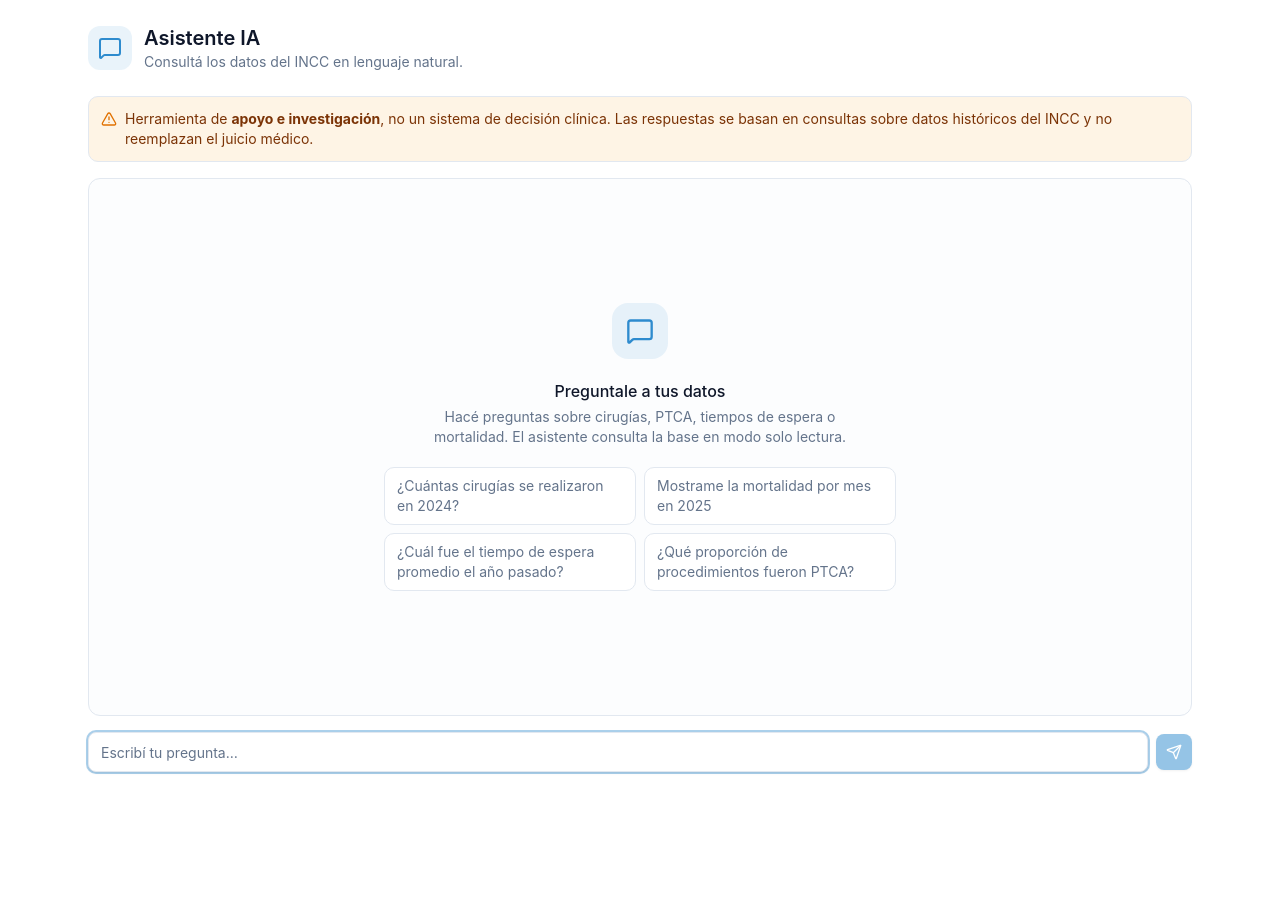
Test: AgentePage › envia pregunta y muestra tabla
Expected: the text "Preguntale a tus datos" is shown, [555,381,726,401]
Expected: the text "no un sistema de decisión clínica" is shown, [125,110,1112,147]
Type "cuantas?" into the field with placeholder "Escribí tu pregunta…" at (618, 752), box [88,732,1148,772]
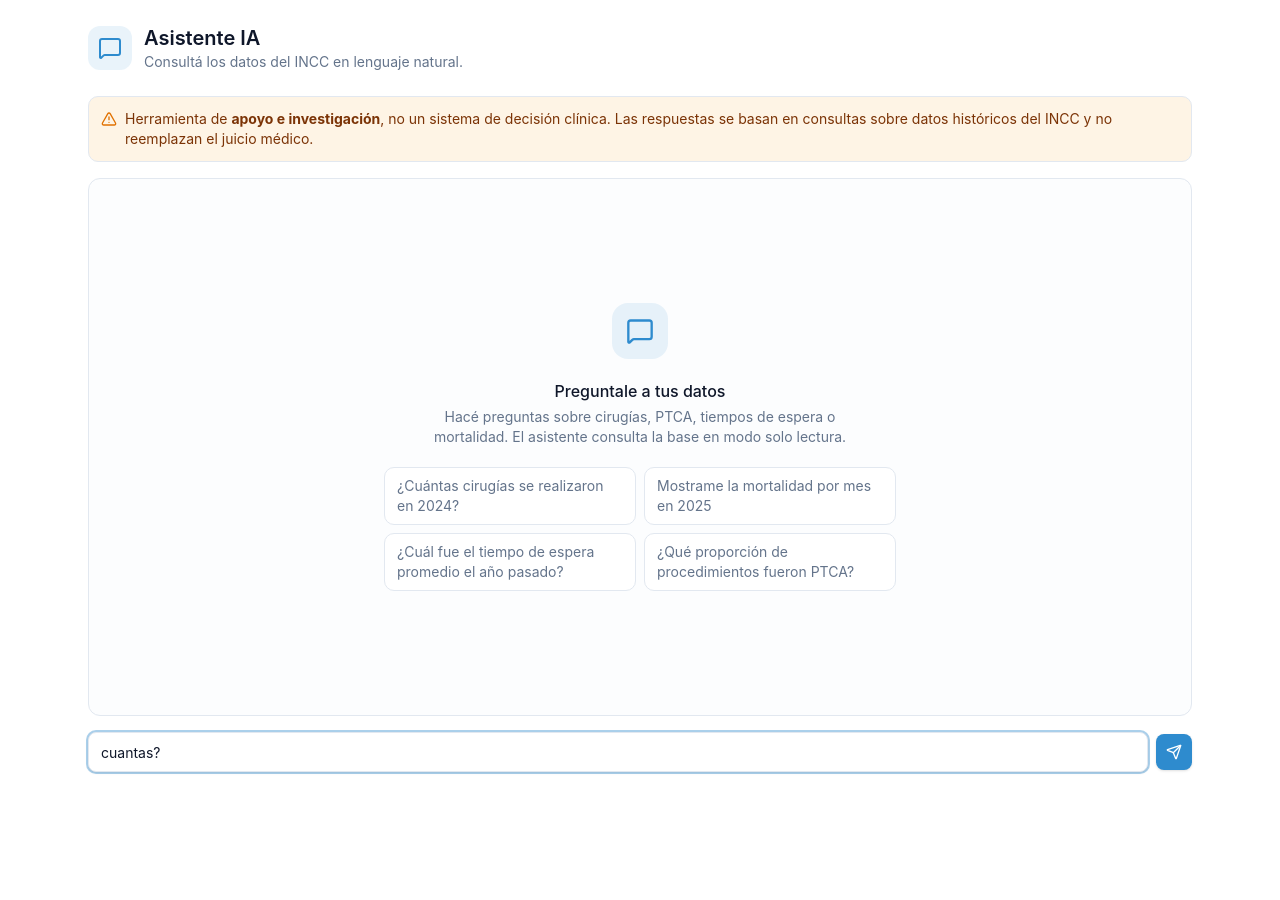
Click the button named "Enviar" at (1174, 752), box [1156,734,1192,770]
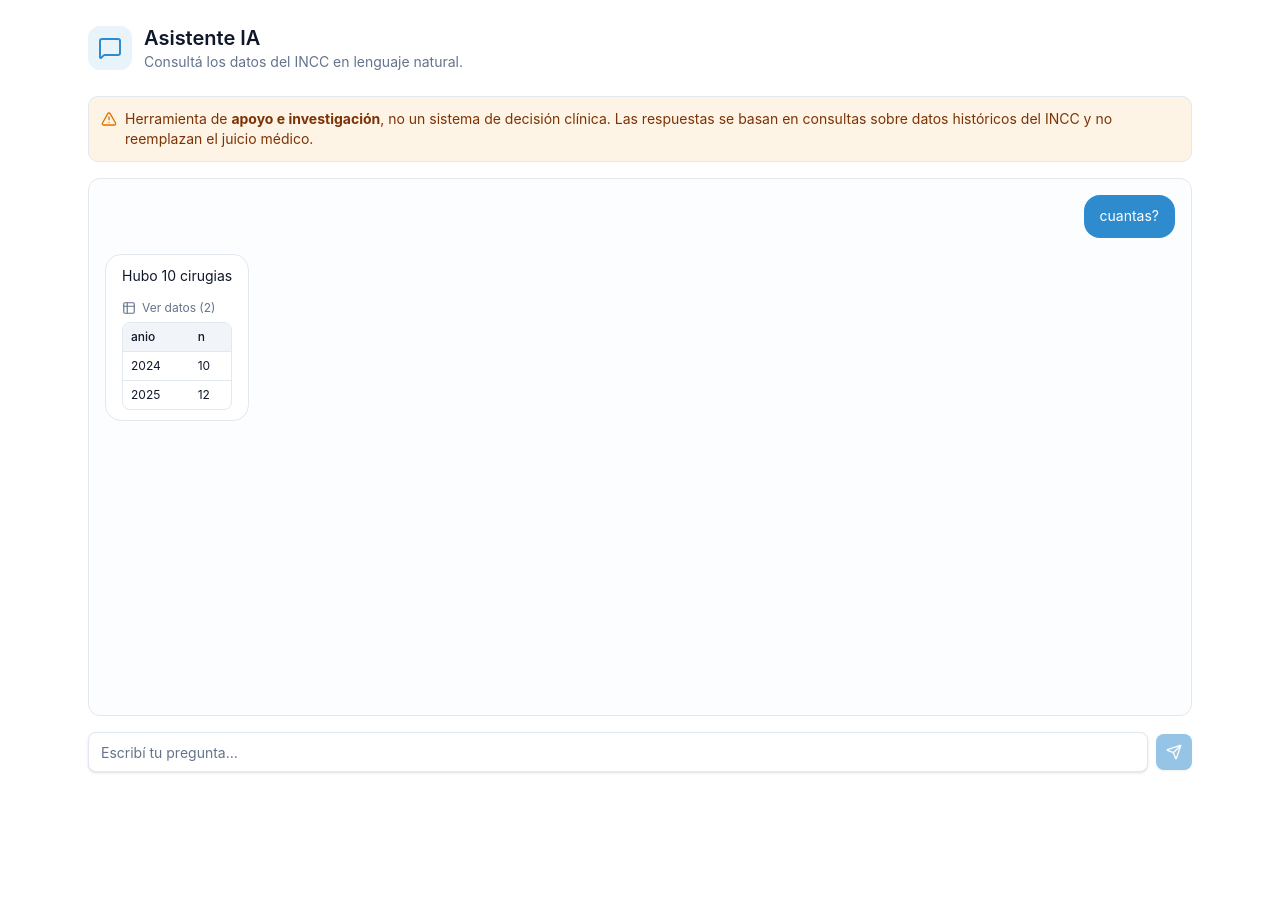
Expected: the text "Hubo 10 cirugias" is shown, [122,265,232,288]
Expected: the heading "Ver datos (2)" is shown, [122,300,216,314]
